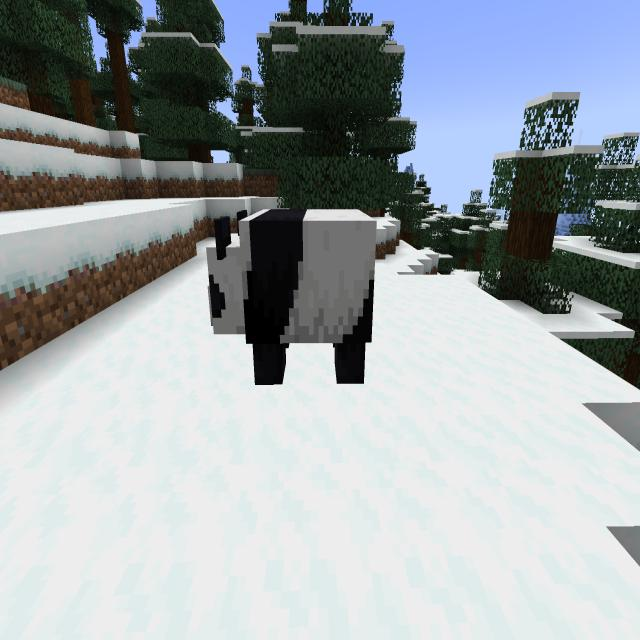Panda: (194, 185, 389, 413)
